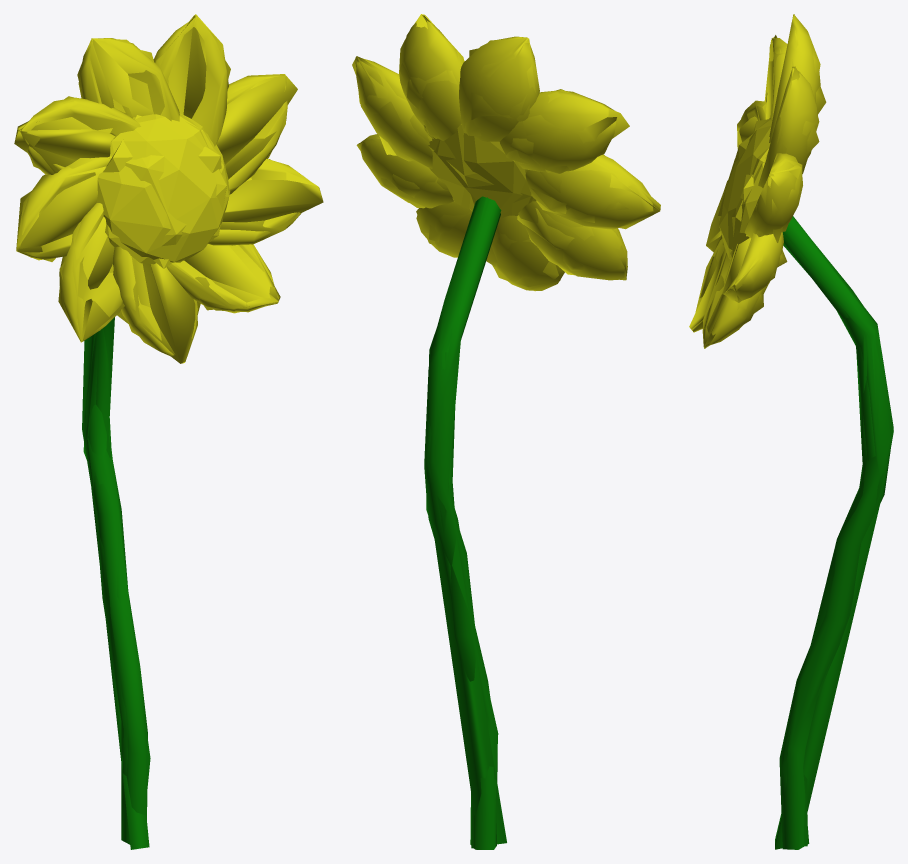
Rendered from SunFlowerLOD.fbx.
3 renders of one model, left to right at view 1: azimuth 30°, elevation 25°; view 2: azimuth 150°, elevation 25°; view 3: azimuth 270°, elevation 25°, orthographic.
Parts seen in each view (by area): view 1: Fleur0, Fleur2, Fleur1; view 2: Fleur0, Fleur1, Fleur2; view 3: Fleur0, Fleur1, Fleur2.
Part boxes in pixels (left/top/right/bottom): Fleur0: left=17, top=16, right=316, bottom=844; Fleur2: left=14, top=17, right=323, bottom=849; Fleur1: left=17, top=14, right=319, bottom=836; Fleur0: left=356, top=21, right=654, bottom=849; Fleur1: left=355, top=14, right=660, bottom=848; Fleur2: left=352, top=14, right=659, bottom=844; Fleur0: left=694, top=15, right=893, bottom=849; Fleur1: left=691, top=14, right=893, bottom=846; Fleur2: left=689, top=14, right=884, bottom=849.
Size of the model in its own units: 0.9274 by 4.06 by 1.58.
